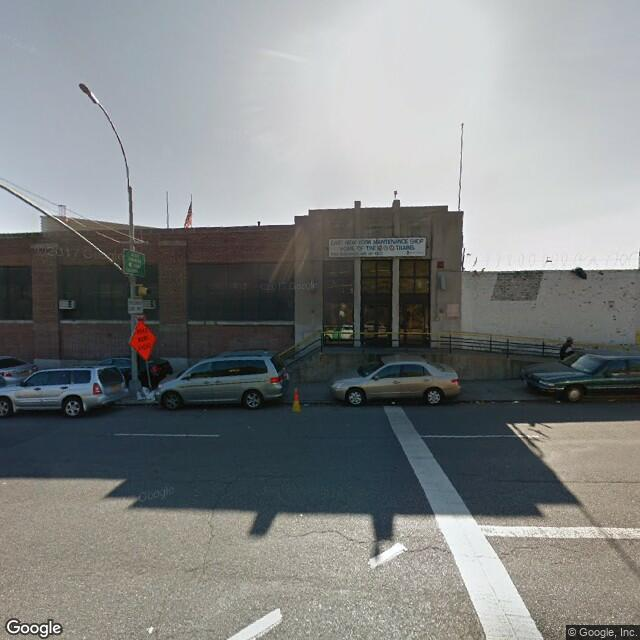litter: (465, 394, 533, 410), (129, 381, 156, 403)
